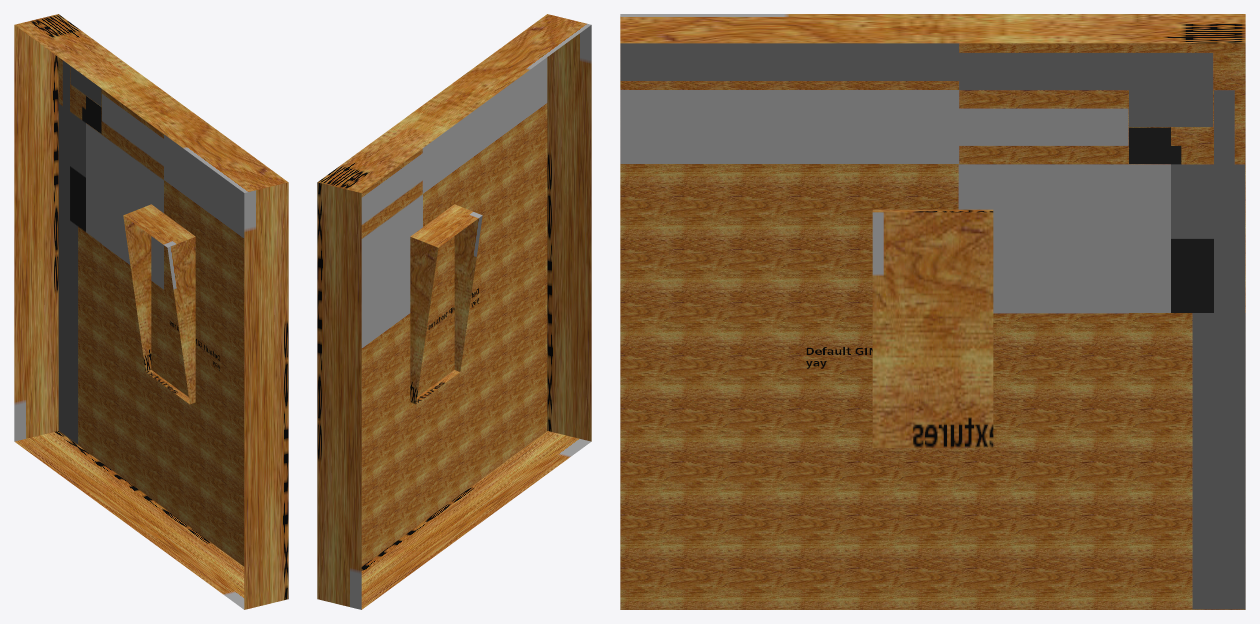
The picture shows the model from 3 angles, left to right: view 1: azimuth 30°, elevation 25°; view 2: azimuth 150°, elevation 25°; view 3: azimuth 270°, elevation 25°; orthographic projection. The views are drawn at different scales.
Visible parts, largest first — view 1: Back, Switch; view 2: Back, Switch; view 3: Back, Switch.
Boxes of the visible parts, x1,y1,x2,y2 form: Back: (14, 14, 288, 609); Switch: (123, 204, 195, 404); Back: (317, 14, 591, 609); Switch: (410, 204, 482, 404); Back: (620, 14, 1245, 609); Switch: (872, 209, 993, 447).
Size of the model in its own units: 0.0316 by 0.1729 by 0.1729.
